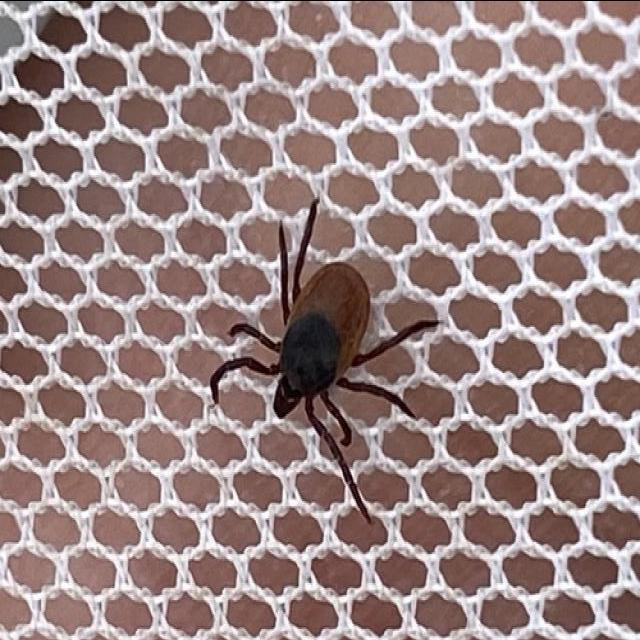Ixodes Ricinus-F: (200, 196, 438, 507)
